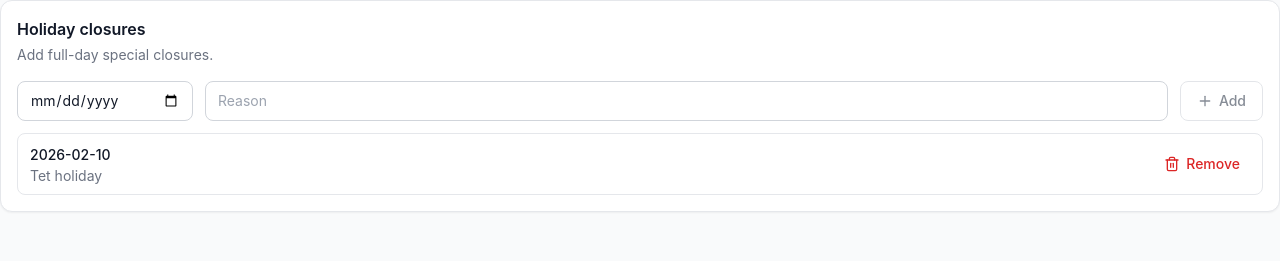
Test case: HolidayClosuresCard › prevents duplicate closure dates
The width and height of the screenshot is (1280, 261).
Type "2026-02-10" into the date field named "Closure date" at (105, 101), box [17, 81, 193, 121]
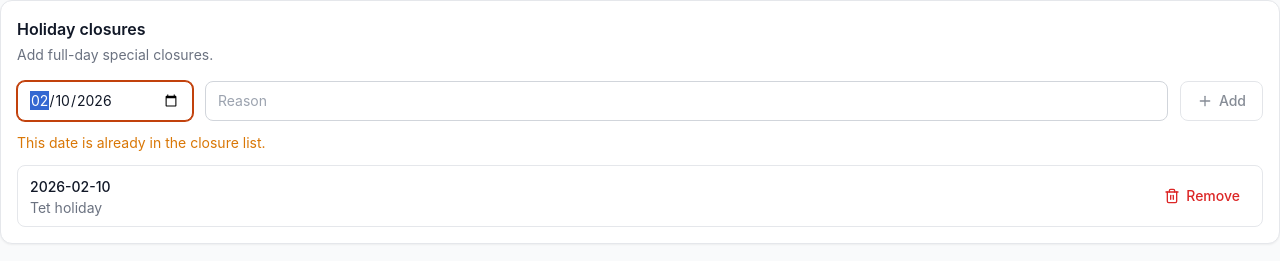
Expected: the button "Add" is disabled, [1180, 81, 1263, 121]
Expected: the text "This date is already in the closure list." is shown, [17, 134, 266, 151]
